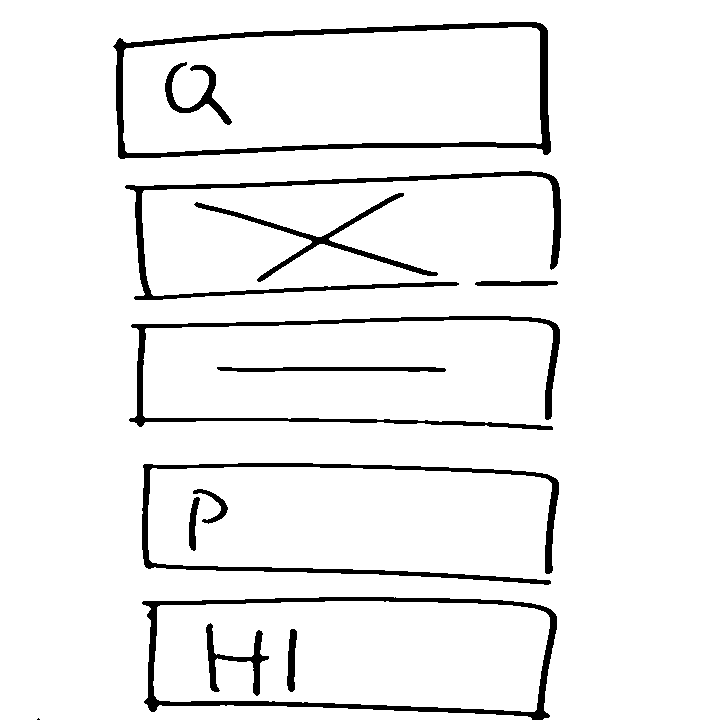button: (116, 311, 565, 436)
heading1: (137, 594, 561, 720)
paragraph: (136, 458, 566, 593)
picture: (121, 172, 573, 303)
search bar: (101, 18, 568, 166)
